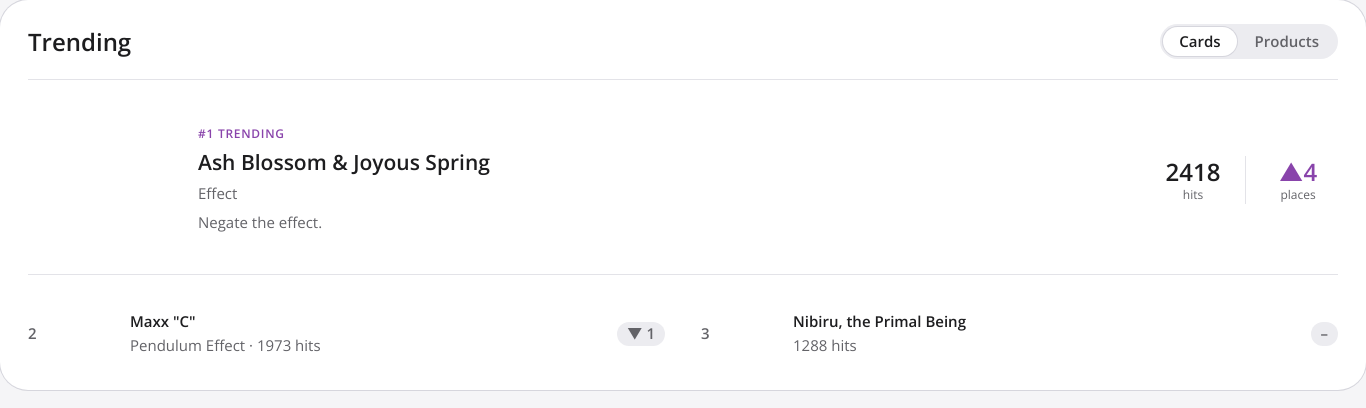
Test: verify the toggle switches to trending products
The width and height of the screenshot is (1366, 408).
Click the button "Products" at [1287, 41], box 1239,27 -> 1335,56
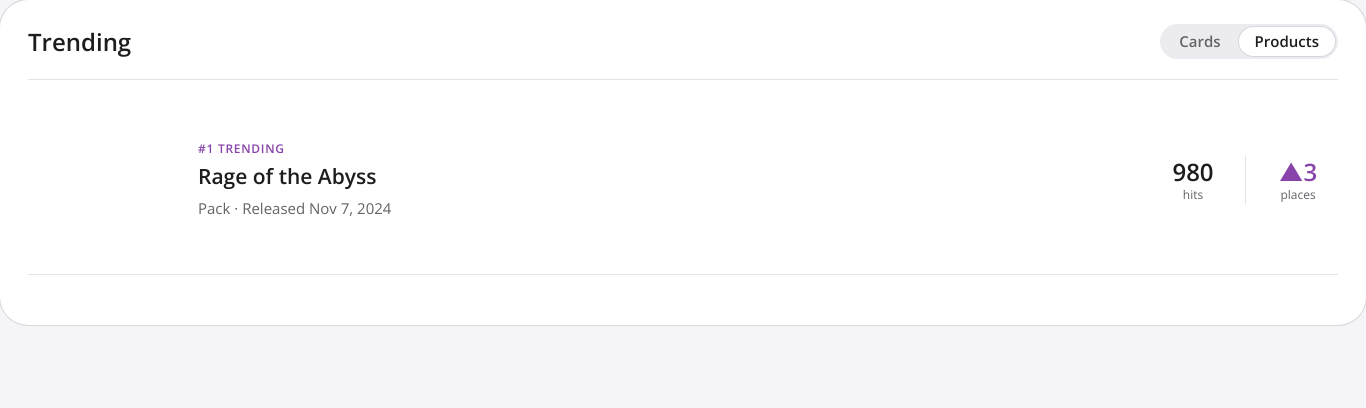
Check: the text "Pack · Released Nov 7, 2024" is shown, box 198,197 -> 391,219
Check: the link "Maxx \"C\"" is gone
